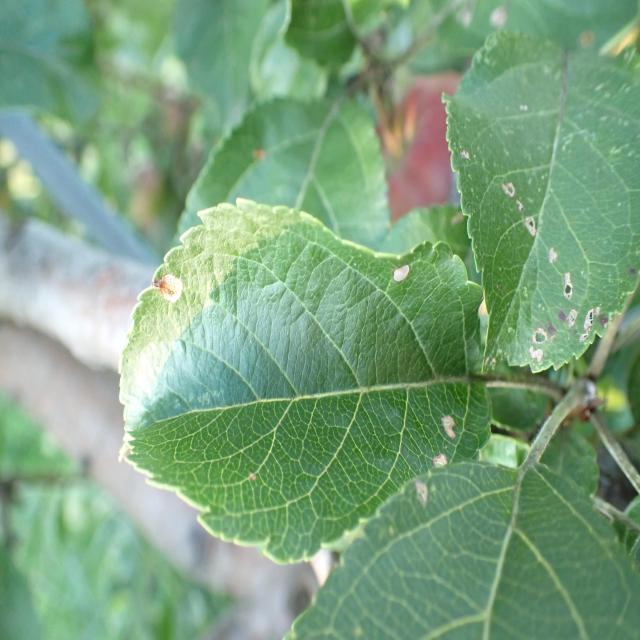frog-eye-leaf-spot: (116, 196, 494, 565), (442, 27, 640, 373)
